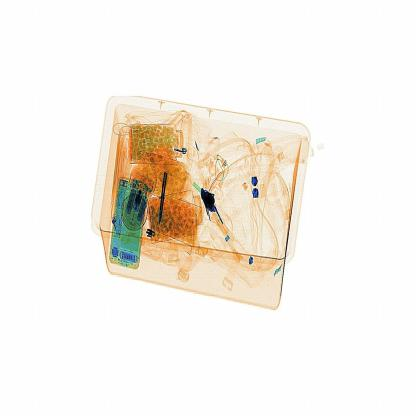gun: (147, 154, 173, 233)
